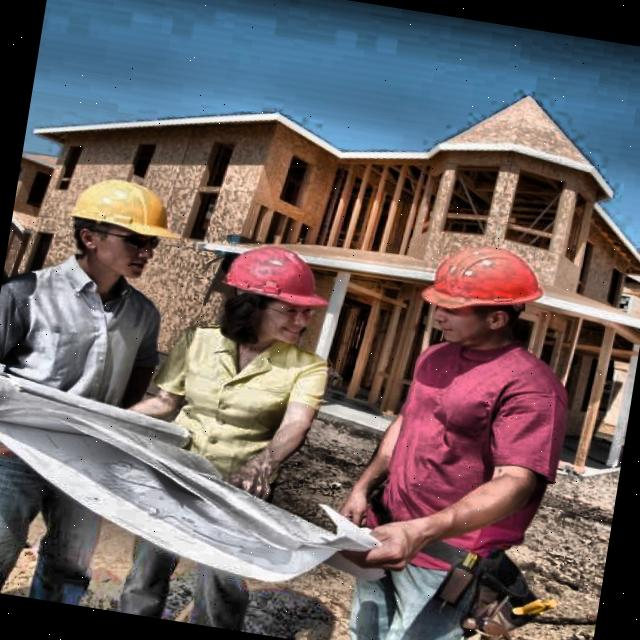helmet: (206, 236, 342, 357), (418, 233, 550, 354), (58, 174, 188, 286)
